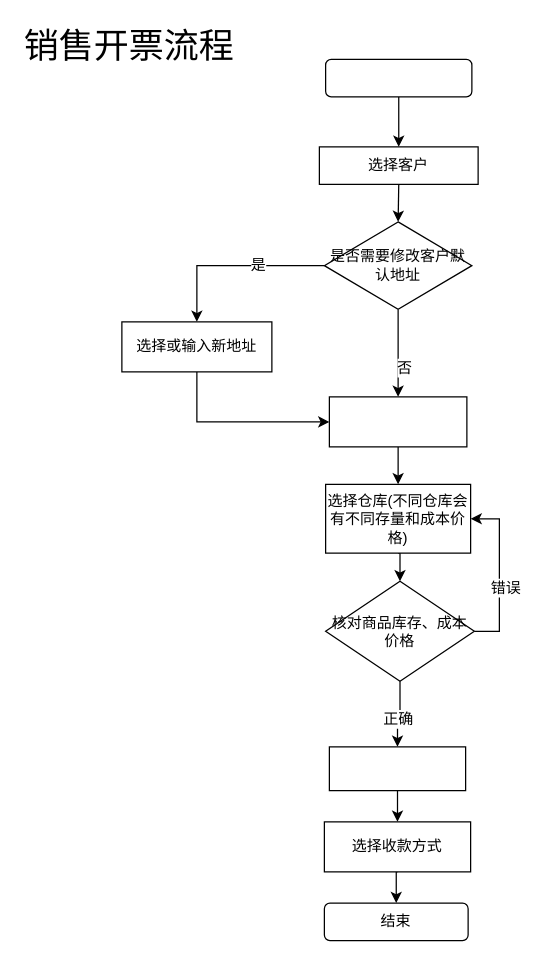
This 541x963 diagram has some shape labels left out. The centre of each missing label's shape, as x and y in pixels:
开始: the point at 398,77
输入售价: the point at 397,768
选择商品货物: the point at 397,421
